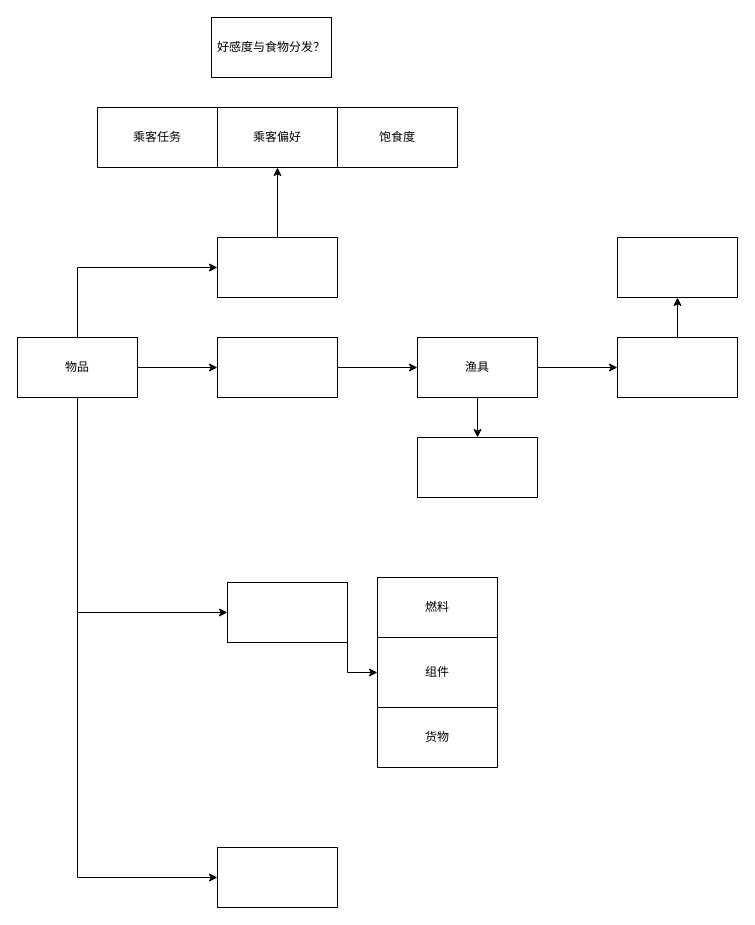
The diagram is 755 pixels wide and 925 high, and some of its shapes have lost their labels. The centre of each missing label's shape, as x and y in pixels:
"事件物品" goes at (277,367).
"地图地点预告 （冰钓湖" goes at (677,267).
"武器" goes at (277,877).
"资源" goes at (287,612).
"食物" goes at (277,267).
